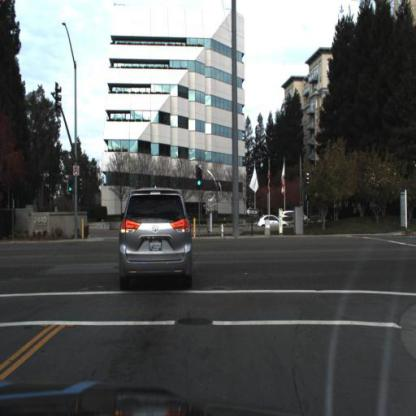car: (117, 183, 196, 289), (281, 207, 310, 231), (259, 213, 286, 231)
trafficLight-Green: (193, 153, 209, 202), (60, 173, 74, 204), (196, 163, 203, 190), (68, 178, 76, 197)
